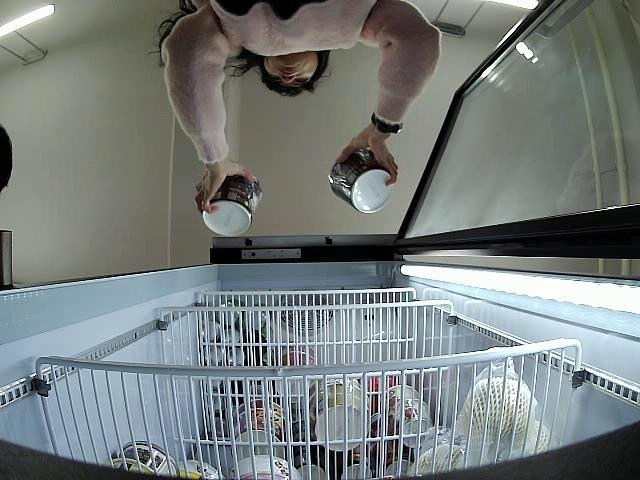07_buldak_L: (328, 147, 395, 214), (202, 174, 262, 234)
